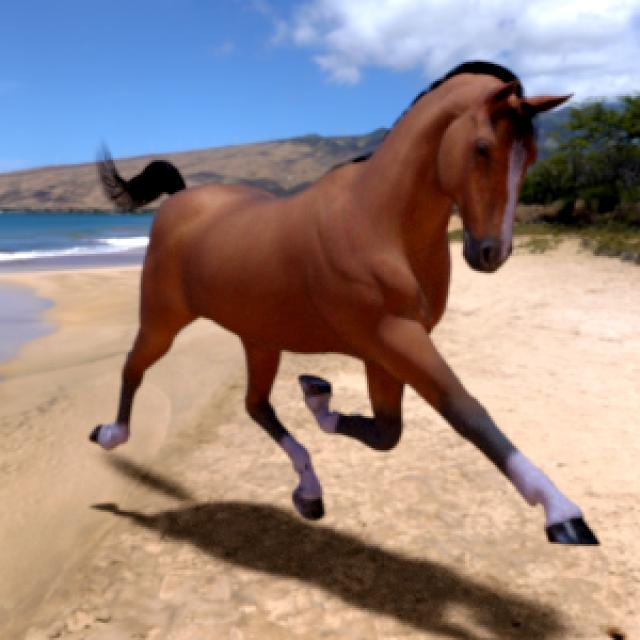horse: (91, 62, 595, 543)
